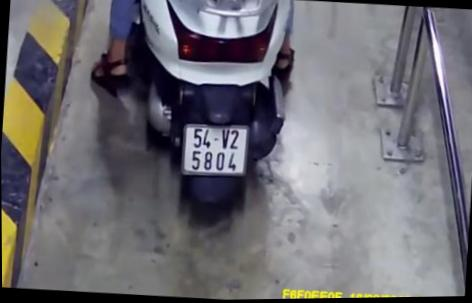LP: (179, 122, 251, 178)
